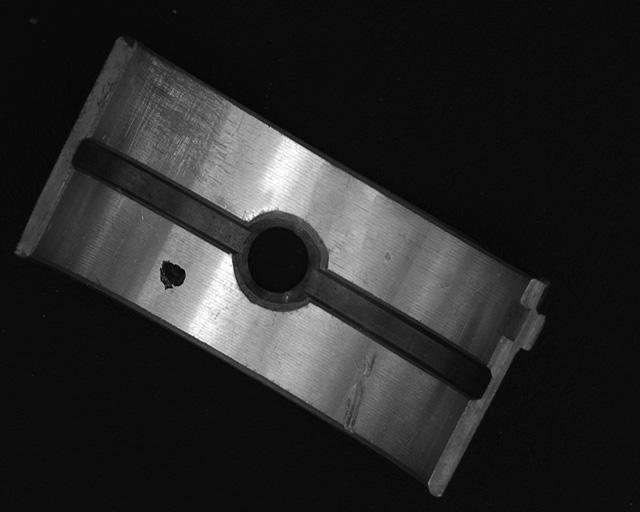blot: (158, 259, 187, 291)
bruise: (383, 252, 392, 266)
gap: (309, 270, 489, 397), (72, 139, 249, 252)
hole: (237, 212, 324, 308)
nick: (342, 352, 377, 435)
scratch: (120, 57, 243, 187)
